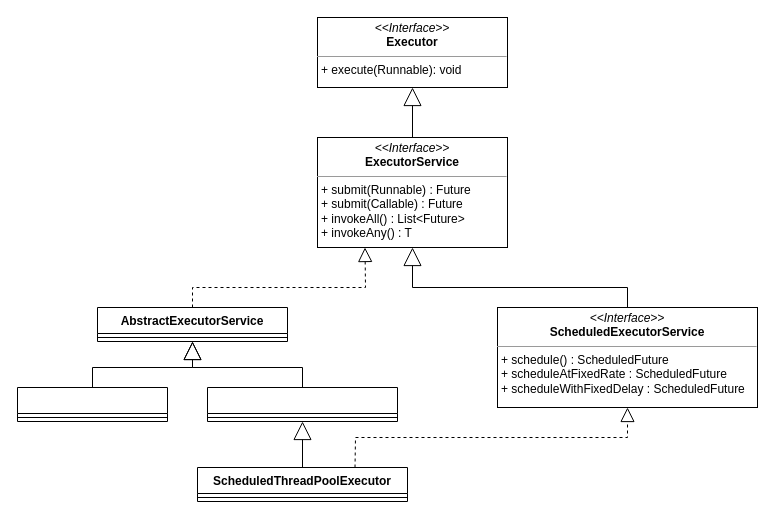
Some shapes in this 775 by 519 pixel diagram are drawn without their labels. Each missing label, with the box of its shape:
ForkJoinPool: (16, 386, 168, 422)
ThreadPoolExecutor: (206, 386, 398, 422)
